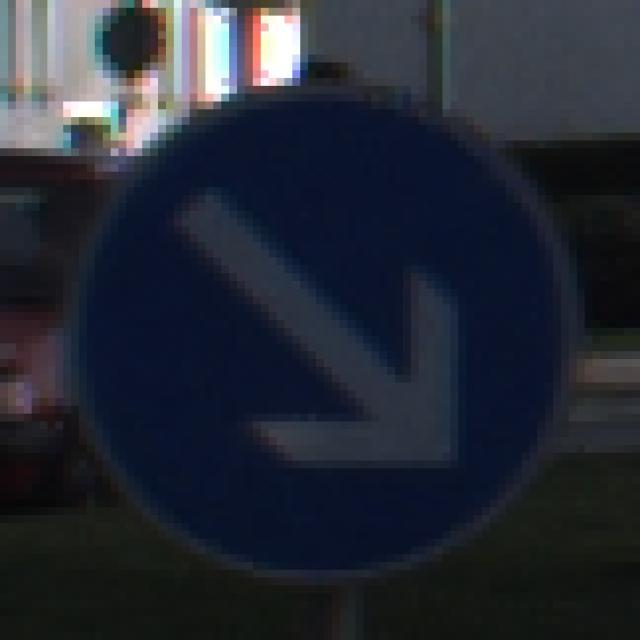compulsary keep right: (54, 70, 589, 573)
